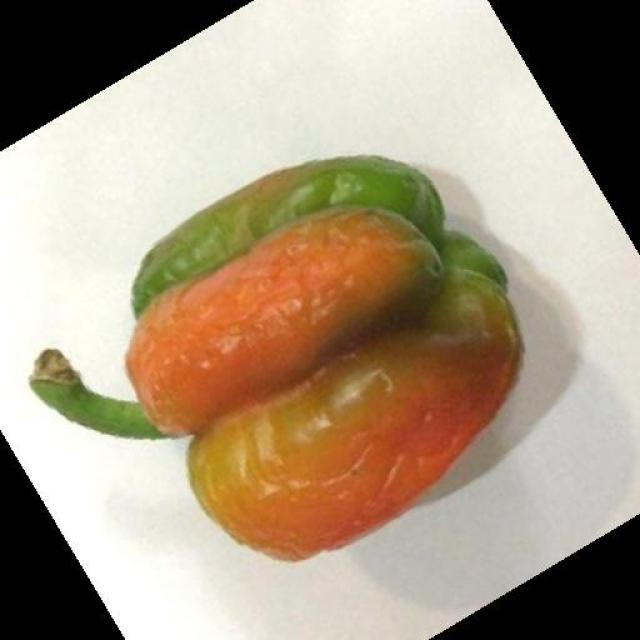Stale_Capsicum: (166, 178, 508, 534)
